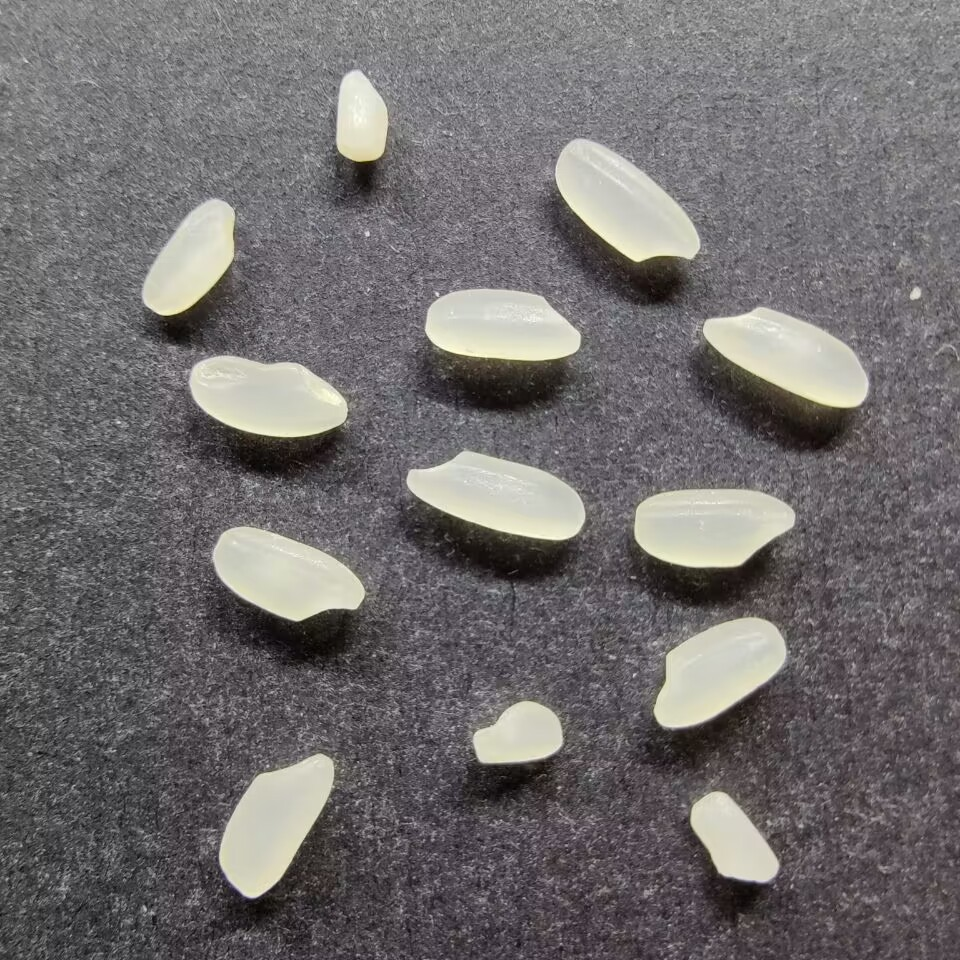broken: (688, 787, 781, 885), (468, 697, 564, 768), (334, 67, 389, 164)
rice: (552, 136, 701, 263), (700, 304, 872, 410), (215, 751, 337, 900), (403, 448, 588, 541), (651, 615, 788, 729), (209, 524, 367, 622), (187, 353, 349, 439), (631, 487, 797, 568), (139, 196, 237, 317), (423, 287, 583, 361)
